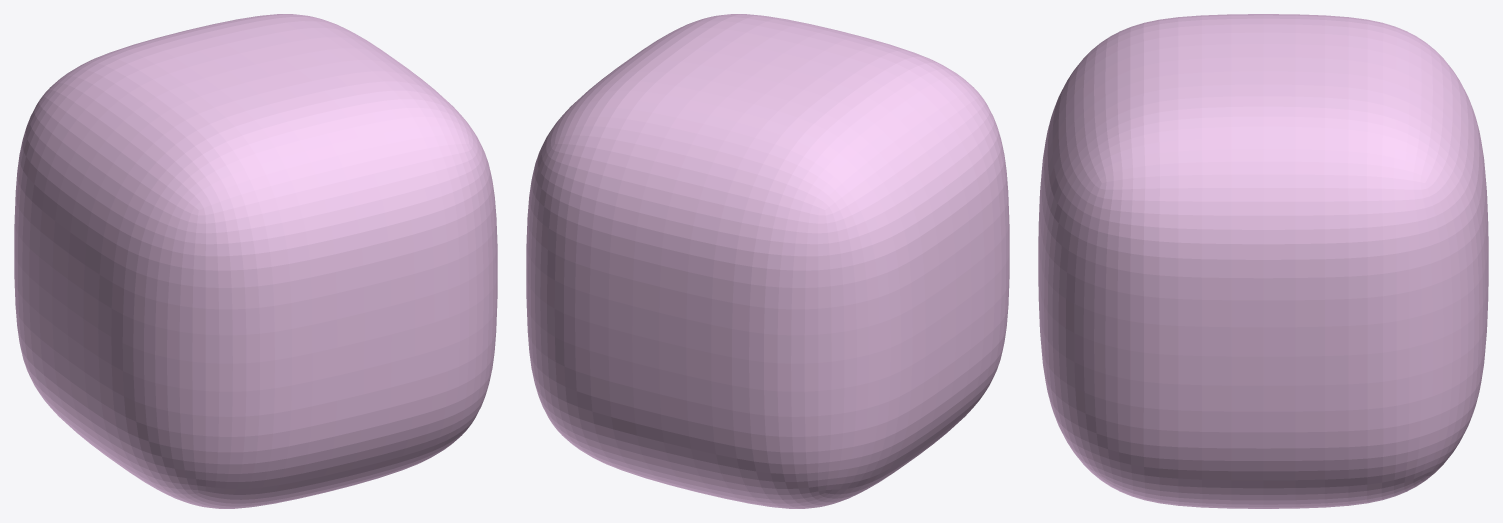
The picture shows the model from 3 angles, left to right: view 1: azimuth 30°, elevation 25°; view 2: azimuth 150°, elevation 25°; view 3: azimuth 270°, elevation 25°; orthographic projection. The views are drawn at different scales.
Visible parts, largest first — view 1: Cube; view 2: Cube; view 3: Cube.
Boxes of the visible parts, x1,y1,x2,y2 form: Cube: (14, 14, 497, 508); Cube: (526, 14, 1009, 508); Cube: (1038, 14, 1488, 508).
Bounding box in the file's own units: 199 × 199 × 199.
